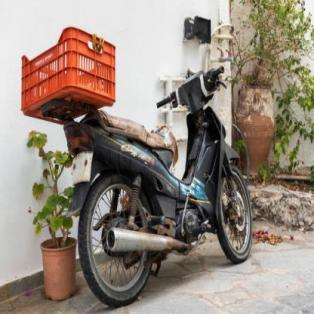Motocicleta: (54, 44, 256, 306)
